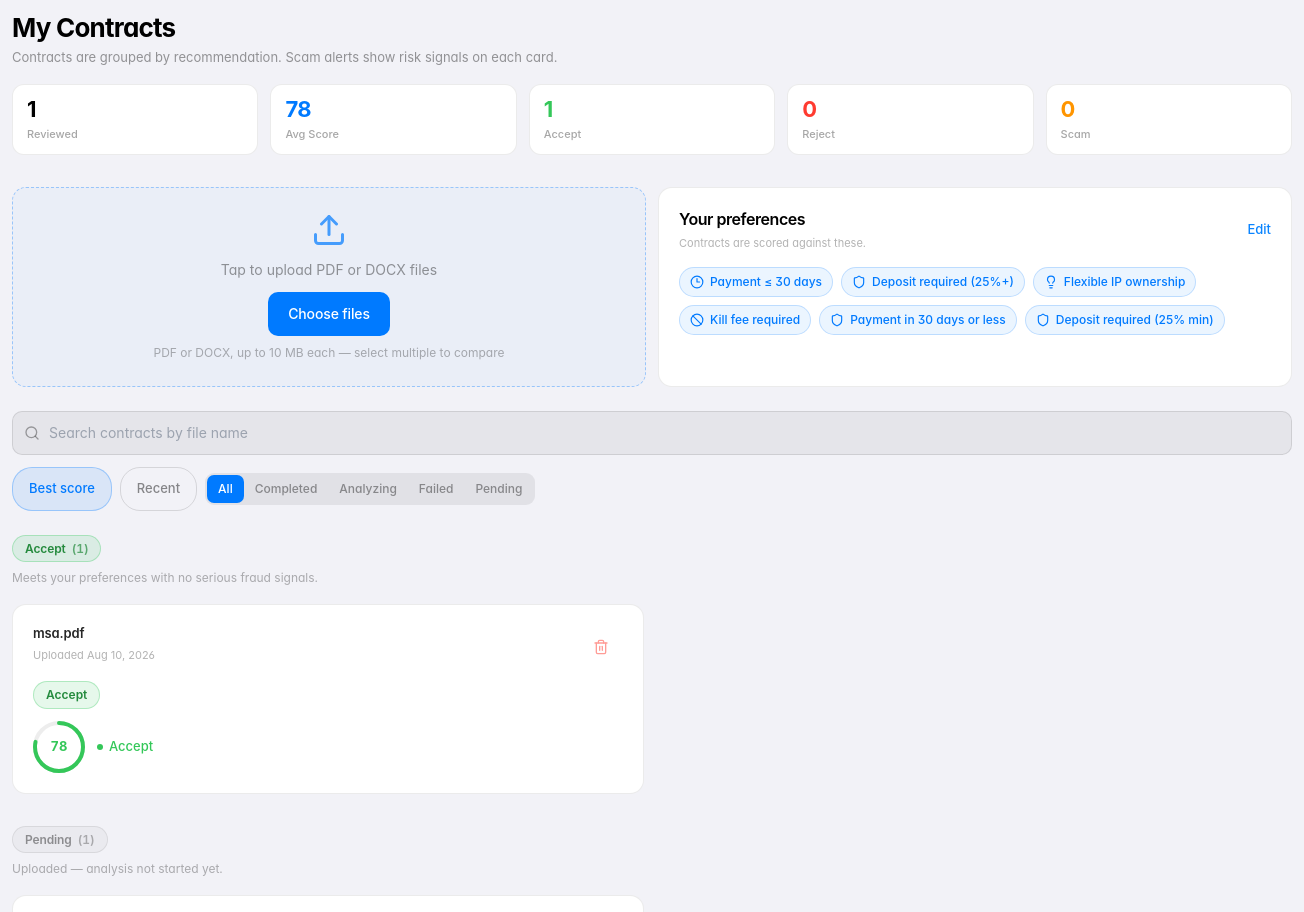
Test: dashboard › filters contracts by name
Expected: the heading "msa.pdf" is shown, [33,625,84,641]
Type "nda" into the field labelled "Search contracts by file name".
click(652, 433); type("nda")  # box [12,411,1292,455]
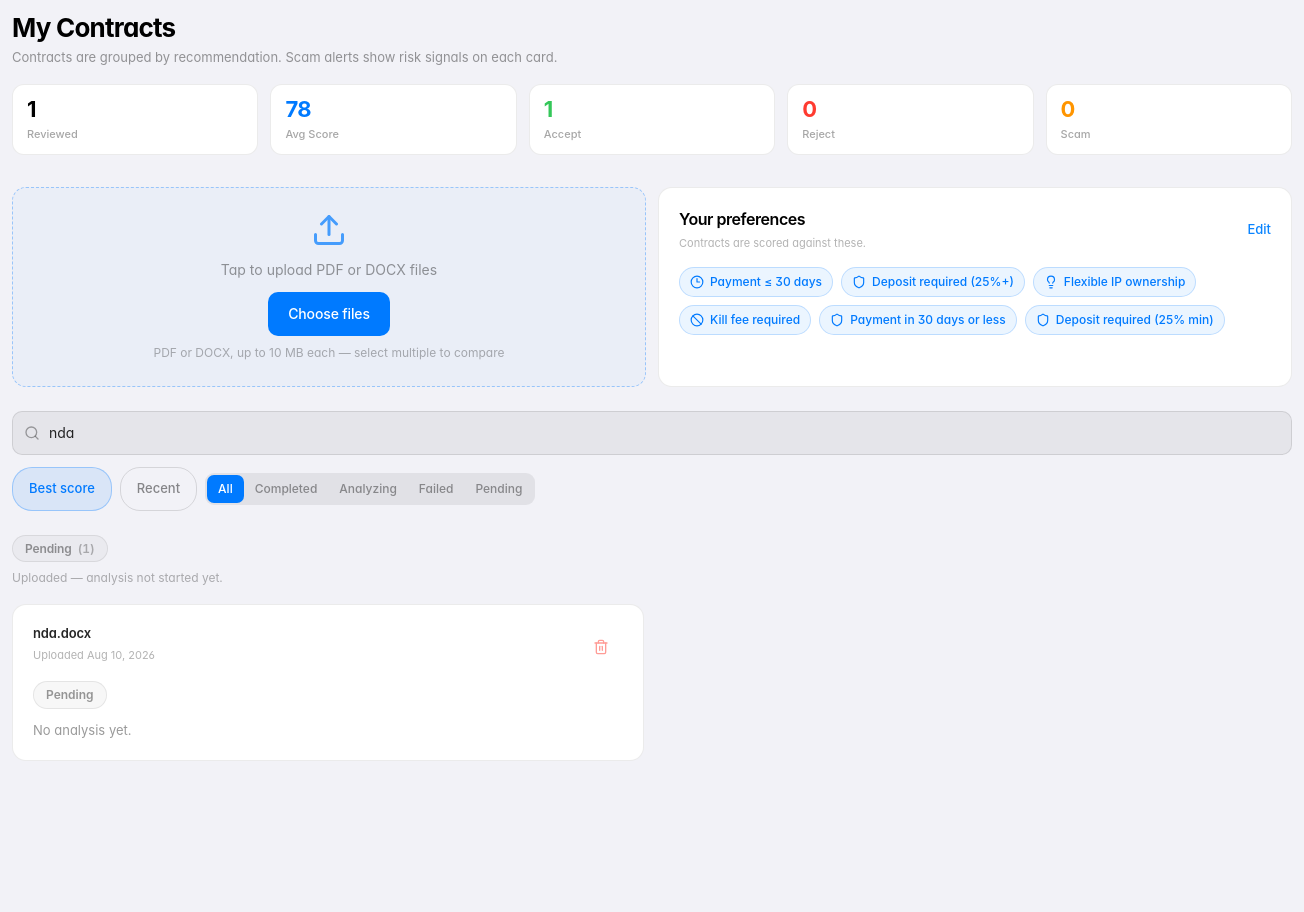
Expected: the heading "nda.docx" is shown, [33,625,91,641]
Now the link "msa.pdf" is gone
